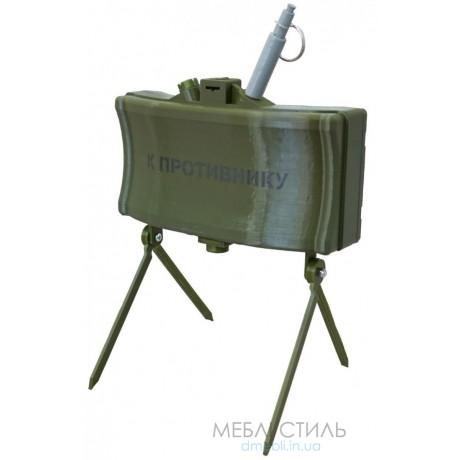MON 50: (115, 78, 367, 263)
